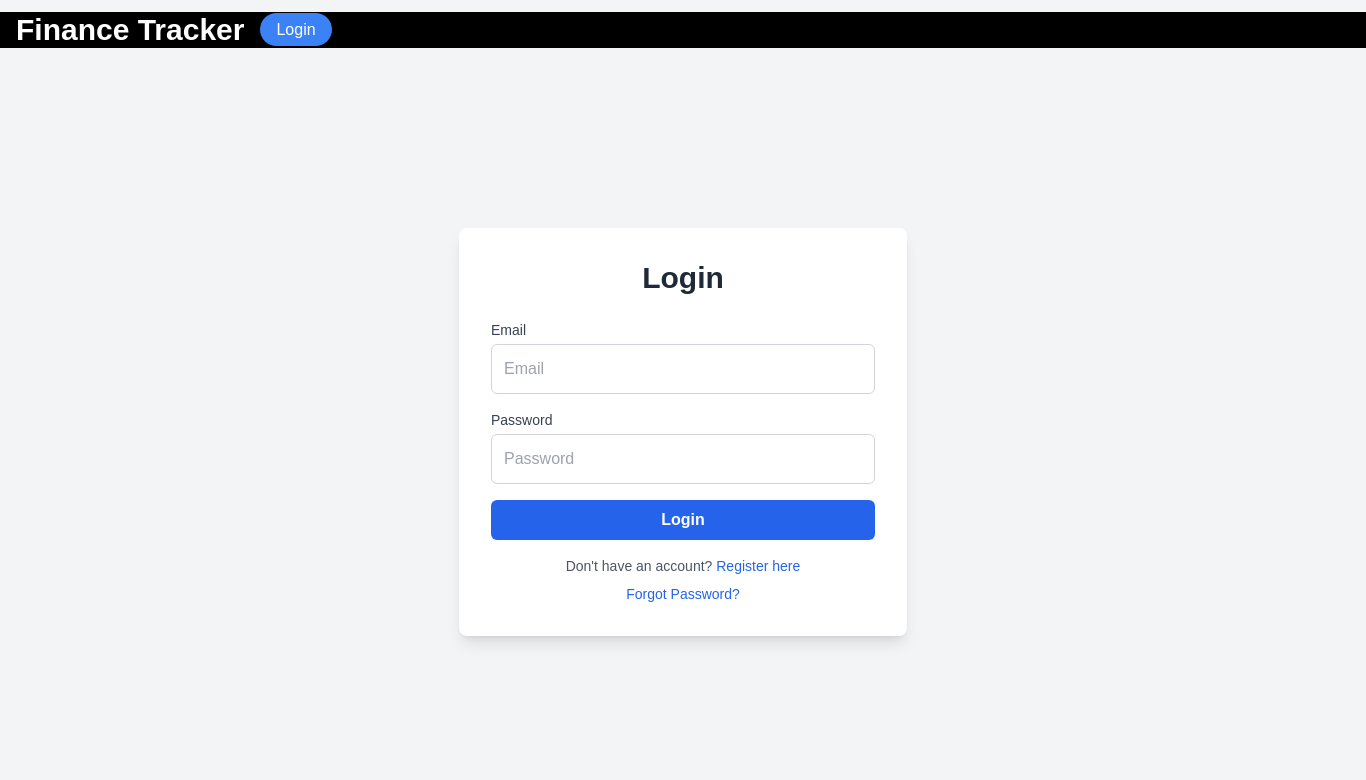
Test: Login Page › should show an error message when login fails with invalid credentials
Fill in invalid email and password
Type "invalid@example.com" into the field named "email".
click(683, 369); type("invalid@example.com")  # box [491,344,875,394]
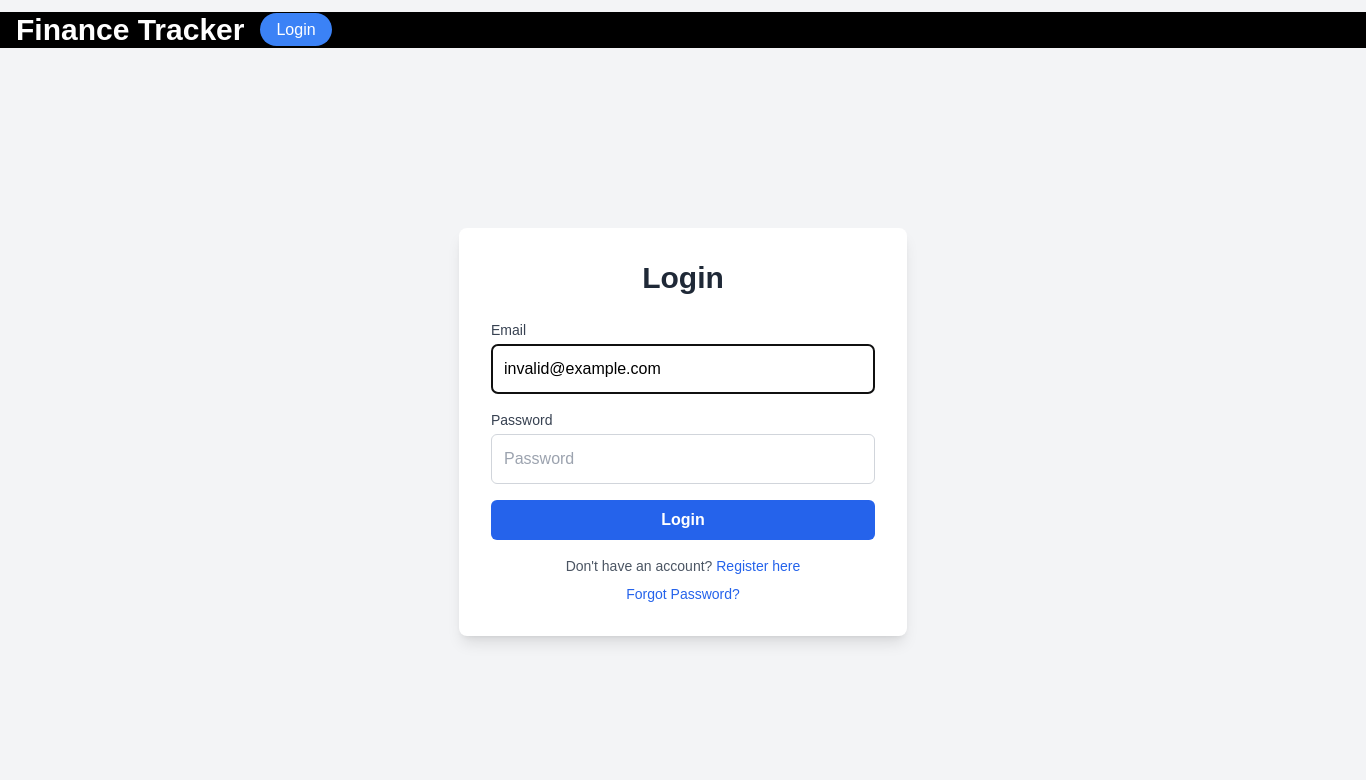
Type "wrongpassword" into the password field named "password".
click(683, 459); type("wrongpassword")  # box [491,434,875,484]
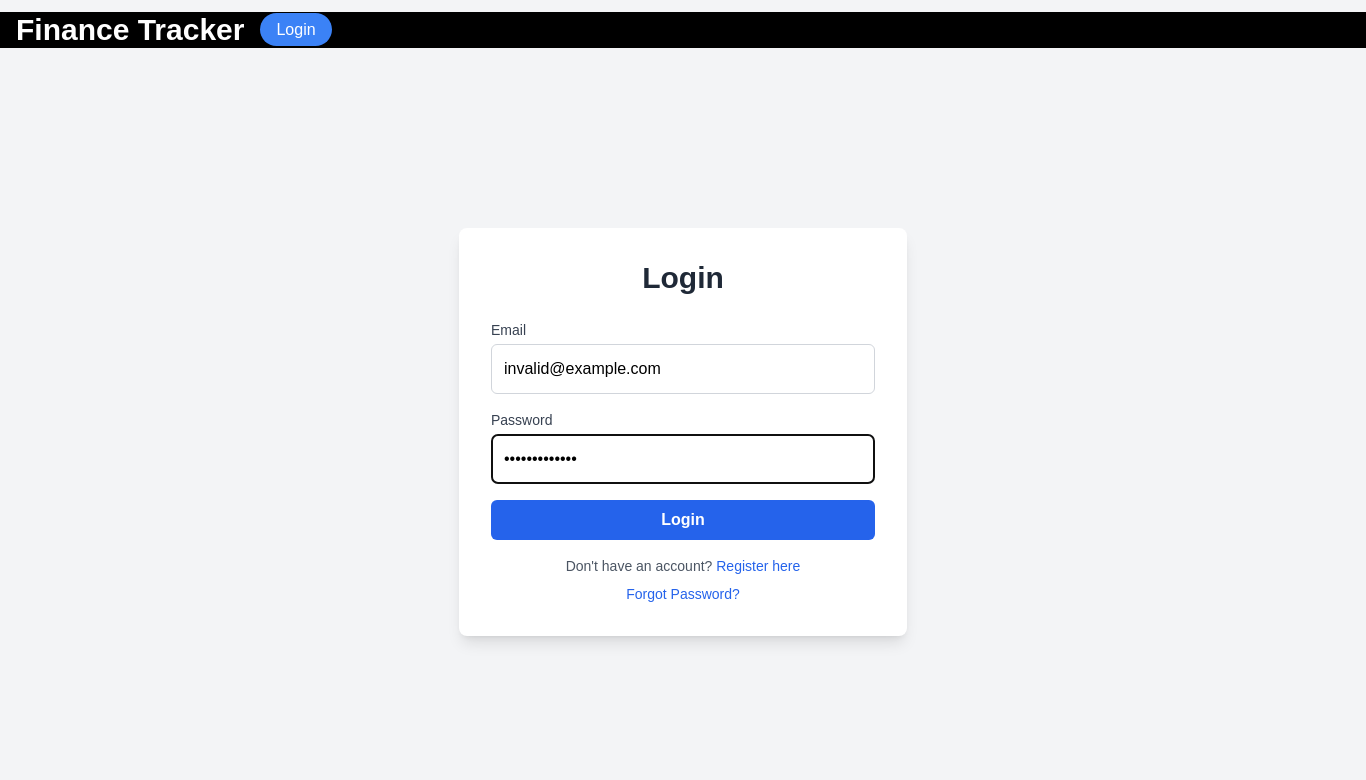
Submit the login form
Click the submit button.
click(683, 520)  # box [491,500,875,540]
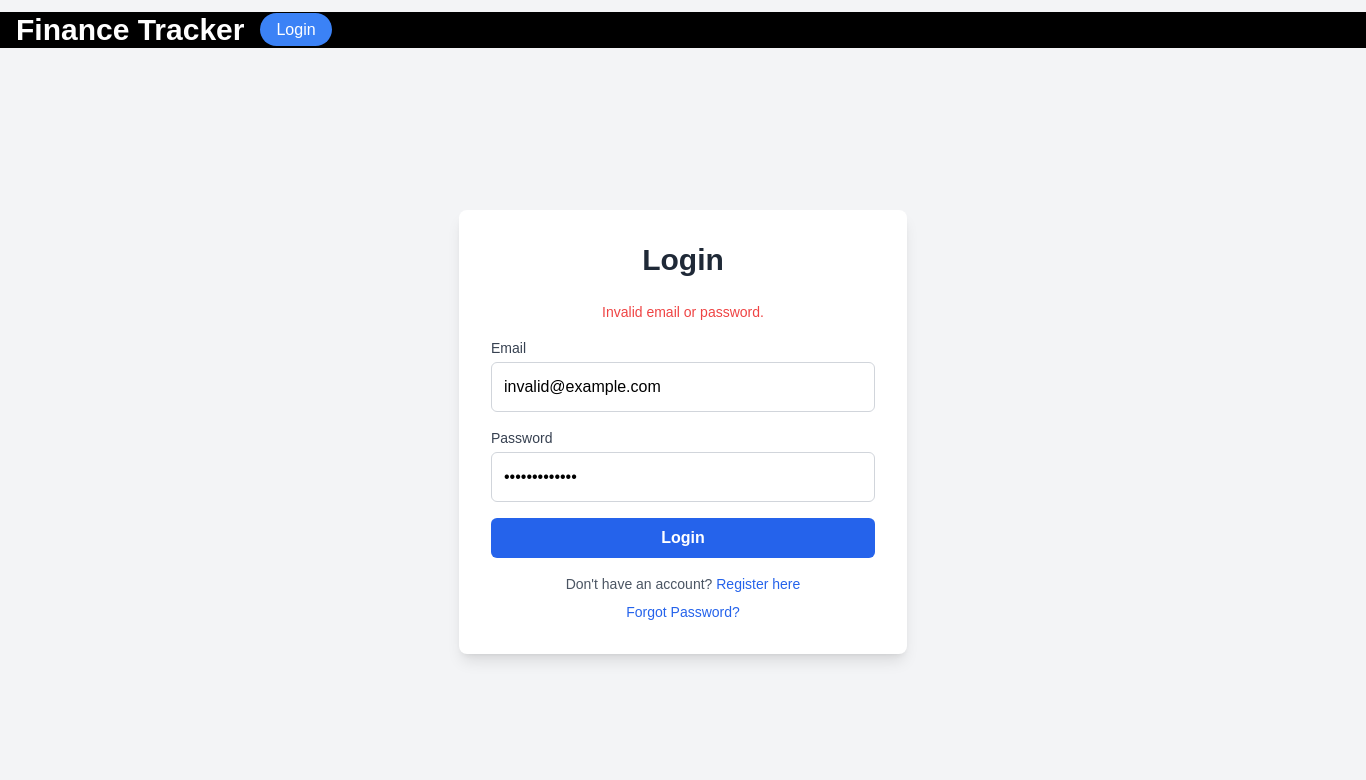
Check: the text "Invalid email or password." is shown, box [602,304,764,320]
